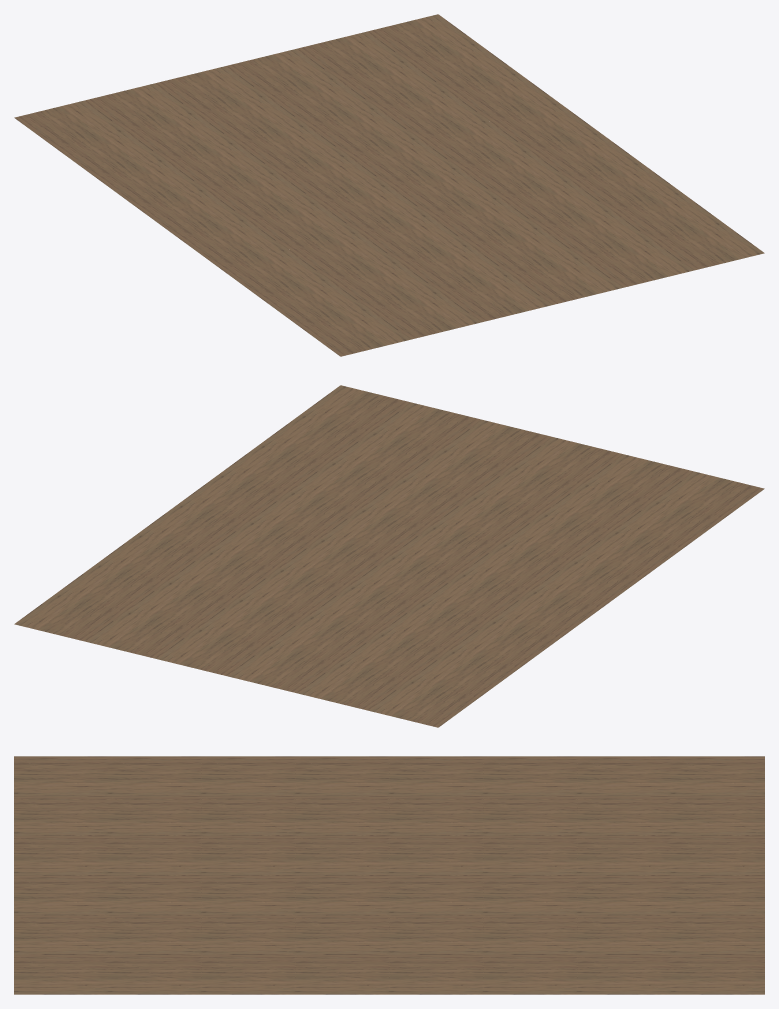
Rendered from floor.fbx.
The picture shows the model from 3 angles, top to bottom: view 1: azimuth 30°, elevation 25°; view 2: azimuth 150°, elevation 25°; view 3: azimuth 270°, elevation 25°; orthographic projection. The views are drawn at different scales.
Visible parts, largest first — view 1: canvas022, canvas027, canvas003, canvas004, canvas006, canvas007, canvas008, canvas009, canvas010, canvas011, canvas013, canvas014 (+36 smaller); view 2: canvas019, canvas030, canvas001, canvas002, canvas003, canvas005, canvas006, canvas009, canvas011, canvas012, canvas014, canvas015 (+36 smaller); view 3: canvas027, canvas029, canvas030, canvas019, canvas021, canvas022, canvas028, canvas020, canvas017, canvas018, canvas023, canvas024 (+36 smaller).
Part boxes in pixels (x1=…): canvas022: x1=237, y1=125, x2=348, y2=172; canvas027: x1=430, y1=198, x2=541, y2=245; canvas003: x1=218, y1=250, x2=329, y2=296; canvas004: x1=177, y1=220, x2=288, y2=266; canvas006: x1=96, y1=160, x2=206, y2=207; canvas007: x1=55, y1=130, x2=165, y2=177; canvas008: x1=14, y1=100, x2=124, y2=147; canvas009: x1=371, y1=292, x2=481, y2=339; canvas010: x1=330, y1=262, x2=440, y2=309; canvas011: x1=289, y1=232, x2=399, y2=279; canvas013: x1=207, y1=173, x2=318, y2=219; canvas014: x1=166, y1=143, x2=277, y2=189; canvas019: x1=430, y1=496, x2=541, y2=543; canvas030: x1=237, y1=569, x2=348, y2=616; canvas001: x1=654, y1=471, x2=764, y2=518; canvas002: x1=613, y1=501, x2=723, y2=548; canvas003: x1=572, y1=531, x2=682, y2=578; canvas005: x1=490, y1=591, x2=601, y2=637; canvas006: x1=449, y1=621, x2=560, y2=667; canvas009: x1=583, y1=454, x2=693, y2=501; canvas011: x1=501, y1=514, x2=612, y2=560; canvas012: x1=460, y1=544, x2=571, y2=590; canvas014: x1=379, y1=603, x2=489, y2=650; canvas015: x1=338, y1=633, x2=448, y2=680; canvas027: x1=201, y1=875, x2=295, y2=915; canvas029: x1=389, y1=875, x2=483, y2=915; canvas030: x1=483, y1=875, x2=577, y2=915; canvas019: x1=201, y1=835, x2=295, y2=875; canvas021: x1=389, y1=835, x2=483, y2=875; canvas022: x1=483, y1=835, x2=577, y2=875; canvas028: x1=295, y1=875, x2=389, y2=915; canvas020: x1=295, y1=835, x2=389, y2=875; canvas017: x1=14, y1=835, x2=107, y2=875; canvas018: x1=108, y1=835, x2=201, y2=875; canvas023: x1=577, y1=835, x2=670, y2=875; canvas024: x1=671, y1=835, x2=764, y2=875.
Bounding box in the file's own units: 26.16 × 7.1e-07 × 34.88.
